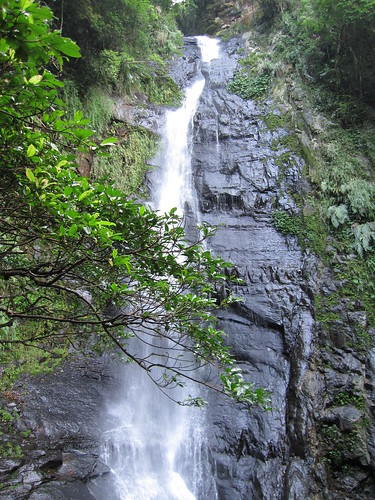wufengciWaterfall: (110, 23, 316, 490)
